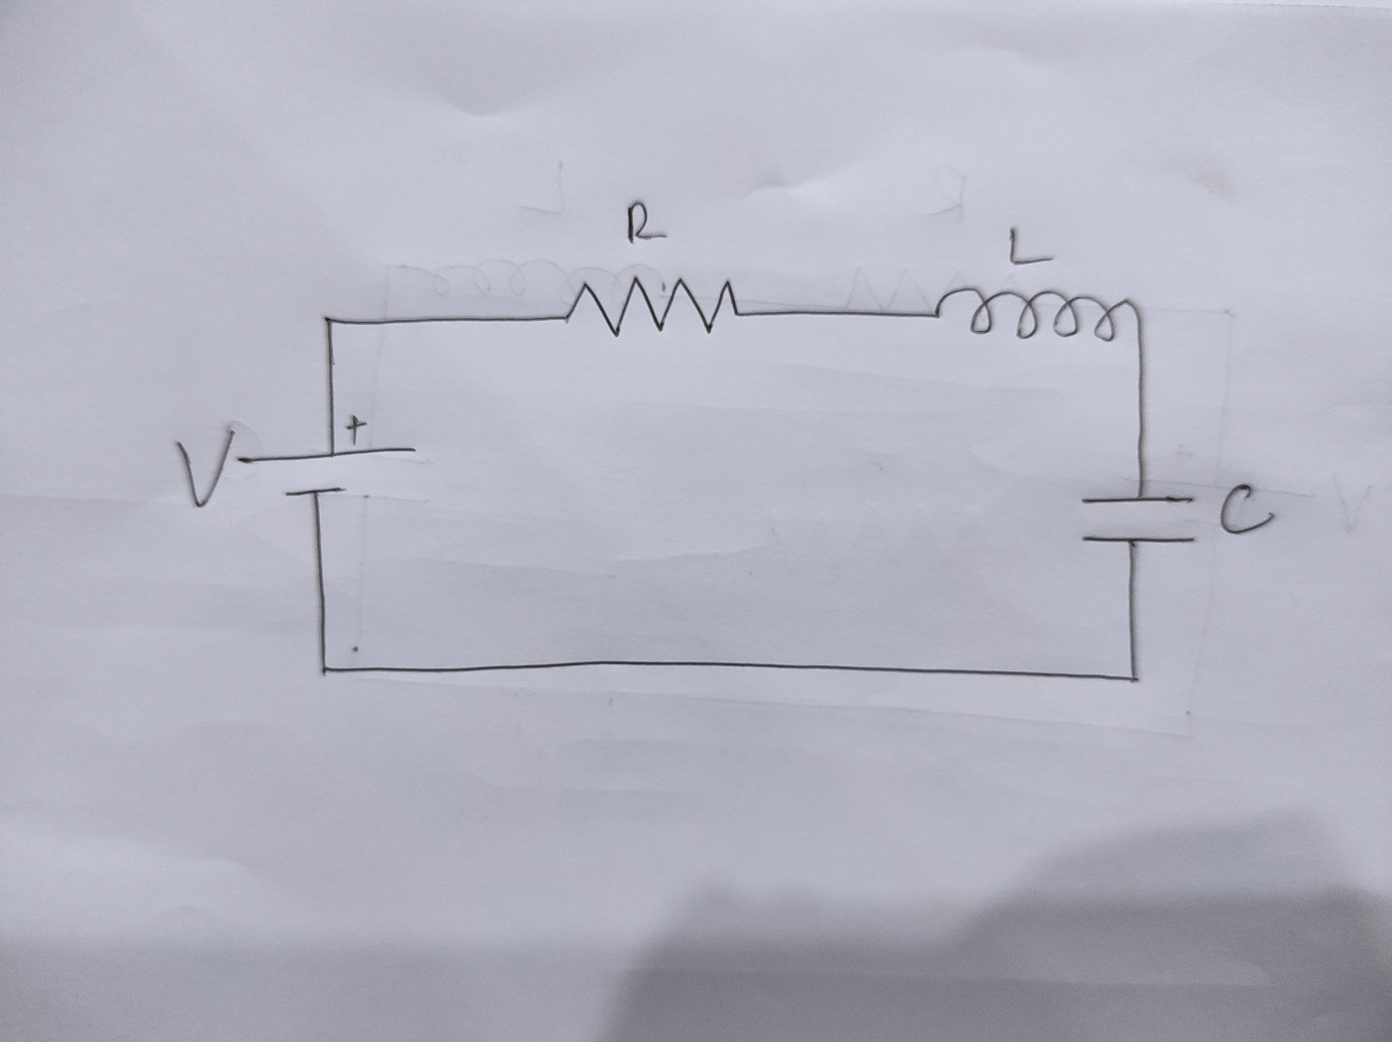capacitor.unpolarized: (1074, 485, 1200, 552)
inductor: (931, 281, 1148, 345)
junction: (1121, 665, 1148, 690), (318, 310, 343, 332), (315, 659, 332, 678)
resistor: (550, 264, 754, 341)
text: (172, 426, 237, 511), (1218, 481, 1276, 536), (615, 195, 672, 246), (1004, 221, 1059, 270)
voltage.dc: (232, 412, 419, 503)
